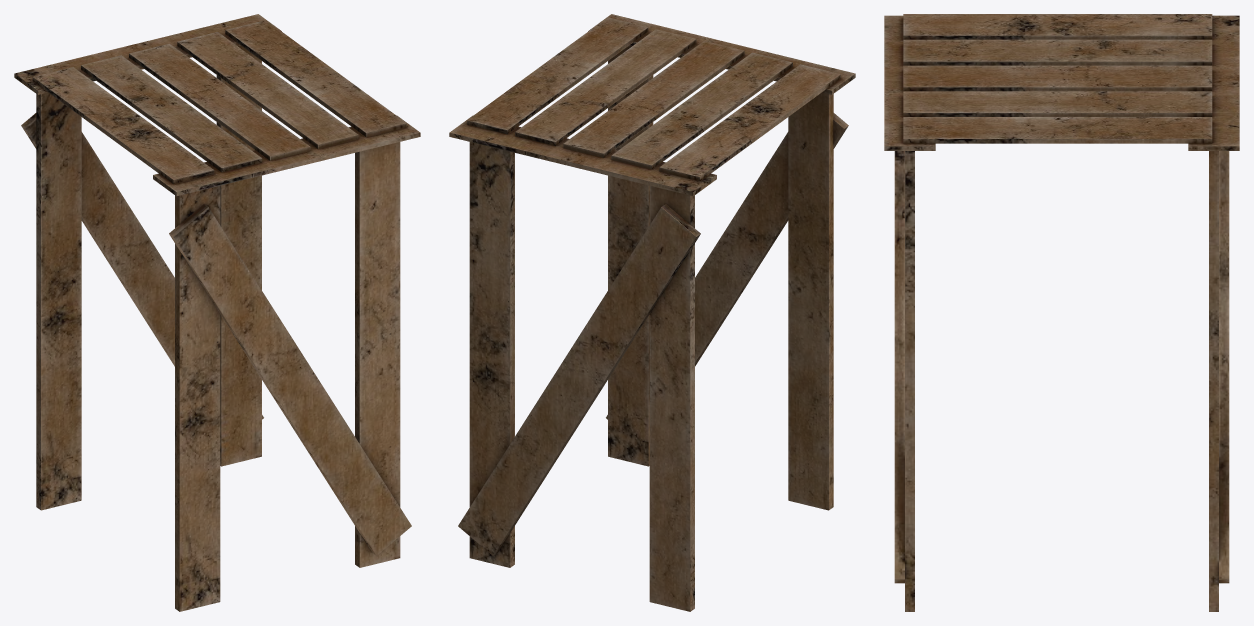
Rendered from For Stand.fbx.
3 views of the same model, side by side, from view 1: azimuth 30°, elevation 25°; view 2: azimuth 150°, elevation 25°; view 3: azimuth 270°, elevation 25° (orthographic). The views are drawn at different scales.
Visible parts, largest first — view 1: Box004, Box015, Box016; view 2: Box016, Box015, Box004; view 3: Box015, Box004, Box016.
Boxes of the visible parts, x1,y1,x2,y2 form: Box004: (169, 142, 411, 611); Box015: (14, 14, 420, 196); Box016: (21, 45, 263, 510); Box016: (458, 142, 700, 611); Box015: (449, 14, 855, 196); Box004: (606, 45, 848, 510); Box015: (884, 14, 1239, 150); Box004: (894, 151, 914, 611); Box016: (1209, 151, 1229, 611).
Bounding box in the file's own units: 30 × 34.51 × 51.
Materials: 3 (3 with a texture image).
